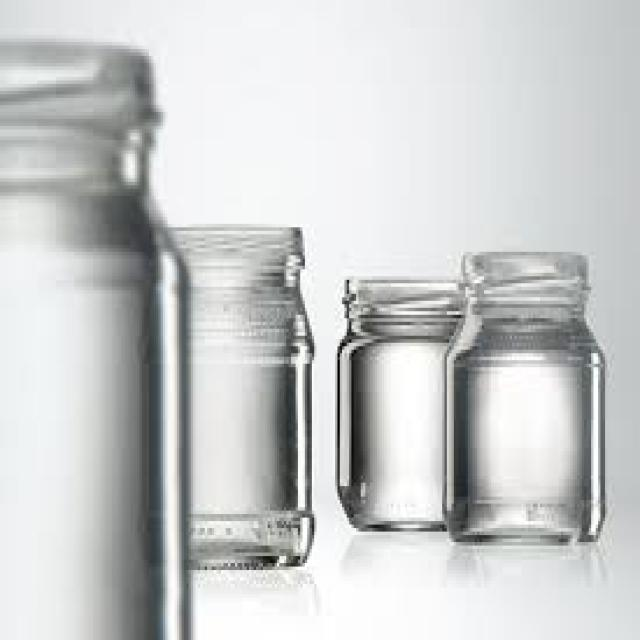glass: (0, 39, 186, 637), (165, 227, 312, 570), (442, 245, 603, 546), (335, 273, 454, 532)
